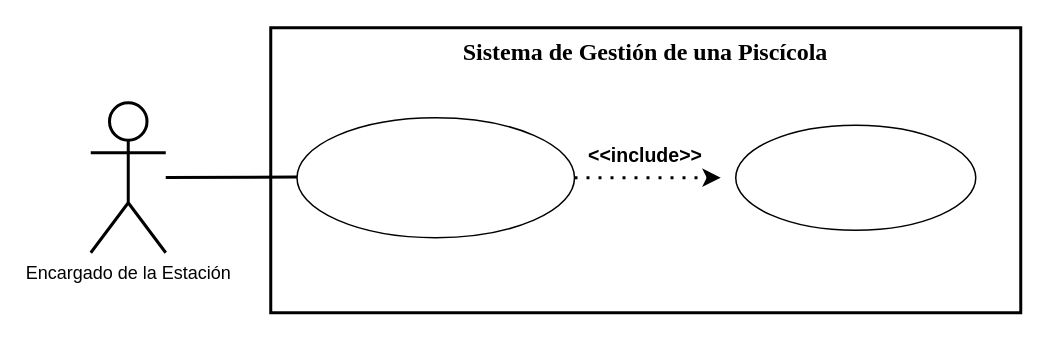
Some shapes in this 1049 by 339 pixel diagram are drawn without their labels. The shapes that lost their labels are listed below. From the top down, each one's centre as x and y in pixels, then its label:
At pixel 435 177: "Registrar alerta por boqueo".
At pixel 855 177: "Notificar alerta".
